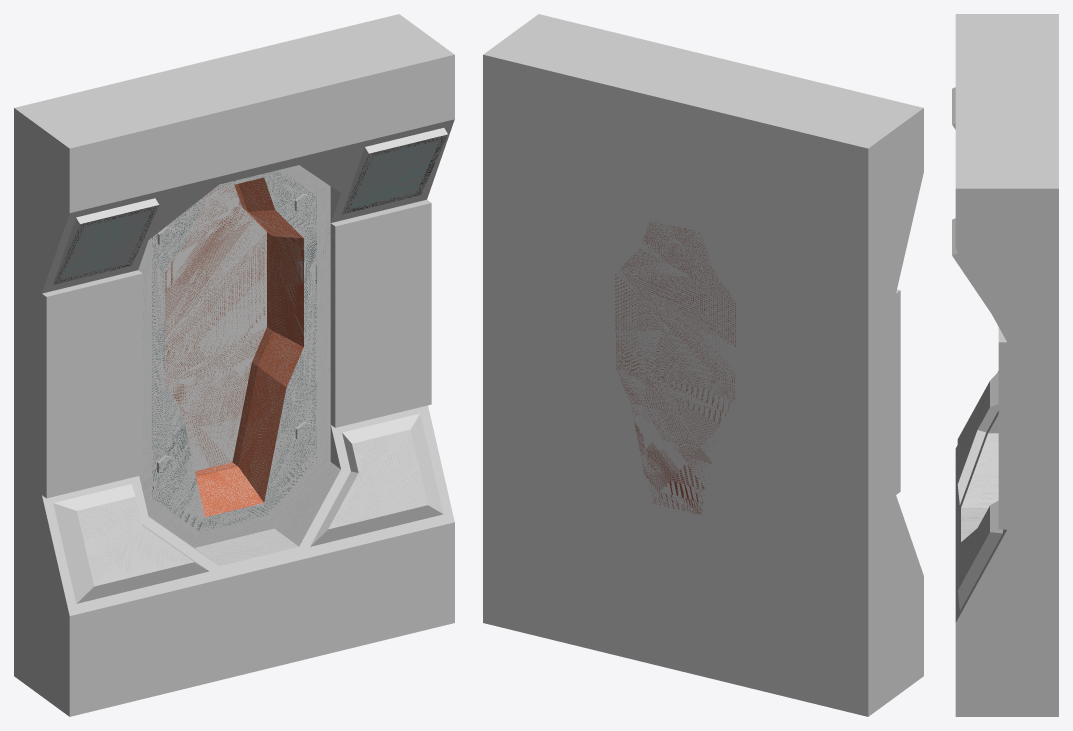
The model's file is scifi_wall_escape_pod_white_01.fbx.
3 renders of one model, left to right at view 1: azimuth 30°, elevation 25°; view 2: azimuth 150°, elevation 25°; view 3: azimuth 270°, elevation 25°, orthographic. The views are drawn at different scales.
Visible parts, largest first — view 1: Model; view 2: Model; view 3: Model.
Boxes of the visible parts, x1,y1,x2,y2 form: Model: (14, 14, 454, 716); Model: (483, 14, 923, 716); Model: (952, 14, 1058, 716).
Size of the model in its own units: 231 by 326 by 59.67.
